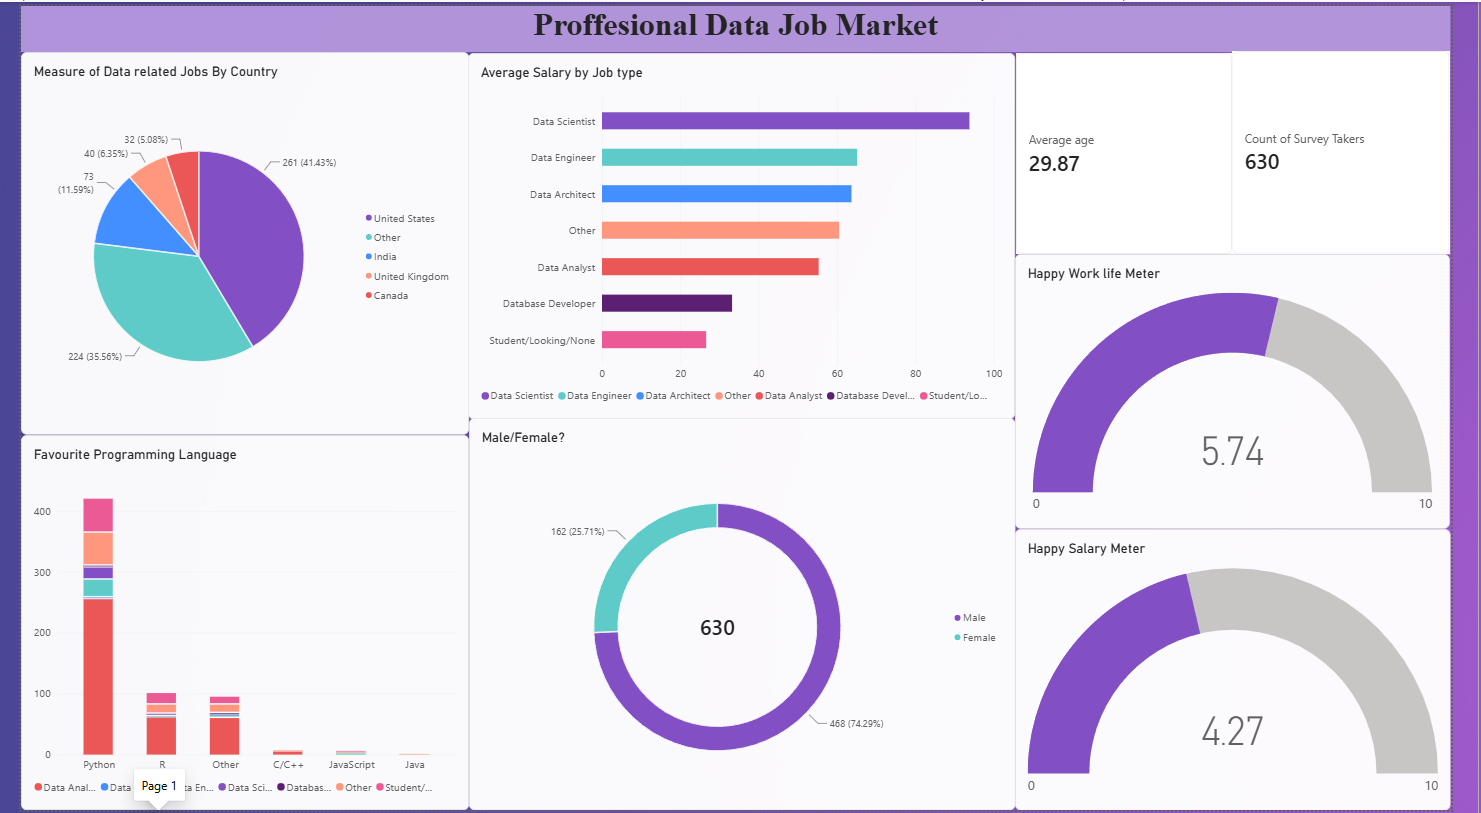

This screenshot's page, from the dashboard's own definition file:
{"tool":"powerbi","page":{"name":"Page 1","canvas":[1920,1080],"ordinal":0},"visuals":[{"type":"textbox","box":[0,0,1920,61.8],"z":0},{"type":"cardVisual","fields":{"Data":["Count(Data Professional Survey.Unique ID)"]},"box":[1627,60.8,293,272.7],"z":1000},{"type":"cardVisual","fields":{"Data":["Avg(Data Professional Survey.Q10 - Current Age)"]},"box":[1336.3,63.1,290.7,270.4],"z":2000},{"type":"barChart","title":"Average Salary by Job type","fields":{"Category":["Data Professional Survey.Q1 - Which Title Best Fits your Current Role?.1"],"Series":["Data Professional Survey.Q1 - Which Title Best Fits your Current Role?.1"],"Y":["Avg(Data Professional Survey.Average Salary)"]},"box":[601.1,62.7,735.3,491.7],"z":3000},{"type":"columnChart","title":"Favourite Programming Language","fields":{"Category":["Data Professional Survey.Q5 - Favorite Programming Language.1"],"Series":["Data Professional Survey.Q1 - Which Title Best Fits your Current Role?.1"],"Y":["CountNonNull(Data Professional Survey.Unique ID)"]},"box":[0,576.2,601.7,504.3],"z":4000},{"type":"pieChart","title":"Measure of Data related Jobs By Country","fields":{"Category":["Data Professional Survey.Q11 - Which Country do you live in?.1"],"Y":["CountNonNull(Data Professional Survey.Q11 - Which Country do you live in?.1)"]},"box":[0,62.2,601.7,513.9],"z":5000},{"type":"gauge","title":"Happy Salary Meter","fields":{"MaxValue":["Max(Data Professional Survey.Q6 - How Happy are you in your Current Position with the following? (Salary))1"],"MinValue":["Min(Data Professional Survey.Q6 - How Happy are you in your Current Position with the following? (Salary))"],"Y":["Avg(Data Professional Survey.Q6 - How Happy are you in your Current Position with the following? (Salary))"]},"box":[1334.8,701.9,585.2,378.1],"z":6000},{"type":"gauge","title":"Happy Work life Meter","fields":{"MaxValue":["Max(Data Professional Survey.Q6 - How Happy are you in your Current Position with the following? (Work/Life Balance))2"],"MinValue":["Min(Data Professional Survey.Q6 - How Happy are you in your Current Position with the following? (Work/Life Balance))1"],"Y":["Avg(Data Professional Survey.Q6 - How Happy are you in your Current Position with the following? (Work/Life Balance))"]},"box":[1335.9,333.6,584,369],"z":7000},{"type":"donutChart","title":"Male/Female?","fields":{"Category":["Data Professional Survey.Q9 - Male/Female?"],"Y":["CountNonNull(Data Professional Survey.Q9 - Male/Female?)"]},"box":[601.7,553.8,734.2,526.7],"z":8000}]}

Visuals, with their boxes on the page's 1920x1080 design canvas (x1, y1, x2, y2). These are canvas units, not pixel positions in the 1481x813 screenshot, which may show the page scaled, cropped or inside an application window:
textbox: box=[0, 0, 1920, 62]
cardVisual - Count(Data Professional Survey.Unique ID): box=[1627, 61, 1920, 334]
cardVisual - Avg(Data Professional Survey.Q10 - Current Age): box=[1336, 63, 1627, 334]
"Average Salary by Job type" barChart: box=[601, 63, 1336, 554]
"Favourite Programming Language" columnChart: box=[0, 576, 602, 1080]
"Measure of Data related Jobs By Country" pieChart: box=[0, 62, 602, 576]
"Happy Salary Meter" gauge: box=[1335, 702, 1920, 1080]
"Happy Work life Meter" gauge: box=[1336, 334, 1920, 703]
"Male/Female?" donutChart: box=[602, 554, 1336, 1080]
